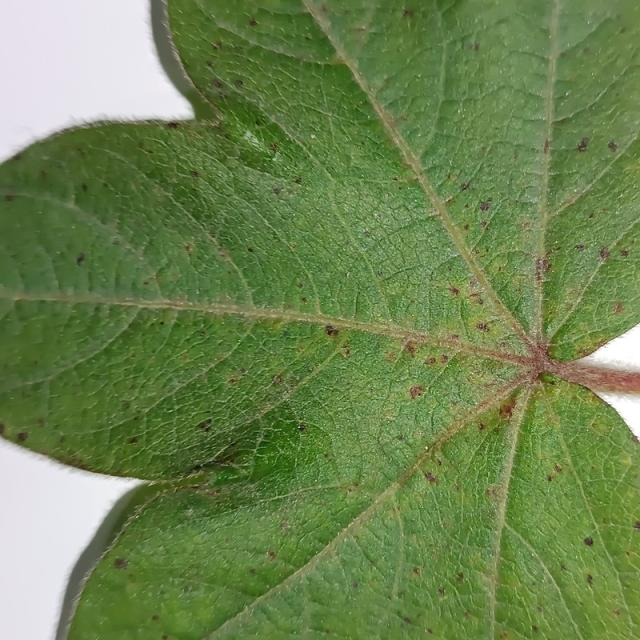Bacterial_Blight: (313, 316, 347, 342), (267, 176, 302, 199), (408, 376, 428, 401), (545, 463, 566, 483), (213, 452, 238, 467), (498, 402, 516, 420), (535, 256, 551, 275), (537, 370, 553, 384), (467, 292, 483, 305), (382, 408, 398, 421), (113, 557, 128, 570), (197, 419, 212, 431), (577, 138, 589, 152), (485, 487, 499, 499), (599, 247, 611, 260), (607, 140, 619, 153), (217, 248, 230, 260), (424, 471, 436, 483), (613, 302, 625, 314), (402, 8, 414, 20), (384, 351, 397, 362), (341, 346, 352, 359), (479, 200, 490, 212), (476, 322, 489, 332), (76, 253, 86, 266), (428, 208, 442, 217), (406, 343, 416, 355), (621, 456, 633, 466), (460, 182, 471, 192), (269, 142, 279, 153), (17, 432, 28, 442), (583, 536, 594, 546), (468, 278, 479, 288), (212, 79, 223, 89), (281, 328, 292, 338), (167, 121, 179, 130), (272, 375, 282, 385), (480, 220, 490, 230), (121, 400, 131, 410), (211, 41, 221, 51), (448, 287, 459, 296), (620, 249, 631, 258), (280, 519, 289, 530), (543, 140, 550, 153), (248, 18, 258, 27), (574, 244, 585, 252), (184, 244, 192, 255), (355, 25, 367, 32), (412, 567, 421, 576), (554, 464, 563, 473), (440, 354, 449, 363), (182, 584, 191, 593), (272, 187, 282, 195), (426, 357, 436, 365), (128, 437, 138, 445), (189, 170, 199, 178), (228, 377, 238, 385), (456, 572, 464, 582), (234, 79, 244, 87), (5, 194, 15, 202), (586, 574, 593, 585), (268, 550, 276, 559), (297, 424, 306, 432), (477, 422, 485, 431), (438, 588, 446, 597), (81, 183, 89, 192), (363, 230, 372, 238), (582, 47, 591, 55), (0, 423, 6, 435), (473, 42, 480, 52), (546, 474, 554, 482), (499, 341, 507, 349), (403, 617, 411, 625), (219, 92, 228, 99), (294, 177, 302, 184), (352, 581, 359, 589), (238, 367, 246, 374), (626, 550, 634, 557), (397, 434, 405, 441), (635, 435, 640, 445), (463, 224, 470, 231), (249, 568, 256, 575), (560, 564, 567, 571), (614, 609, 621, 616), (374, 213, 381, 220), (152, 615, 160, 621), (532, 626, 538, 634), (537, 605, 543, 613), (247, 247, 254, 253), (588, 212, 594, 219), (436, 459, 442, 466), (426, 628, 433, 634), (324, 628, 331, 634), (636, 521, 640, 531), (297, 283, 303, 289), (301, 297, 307, 303), (376, 270, 382, 276), (159, 320, 165, 326), (392, 177, 398, 182), (457, 108, 462, 114), (310, 134, 316, 139), (161, 636, 168, 640), (424, 445, 429, 450)
Cotton: (0, 0, 639, 639)
